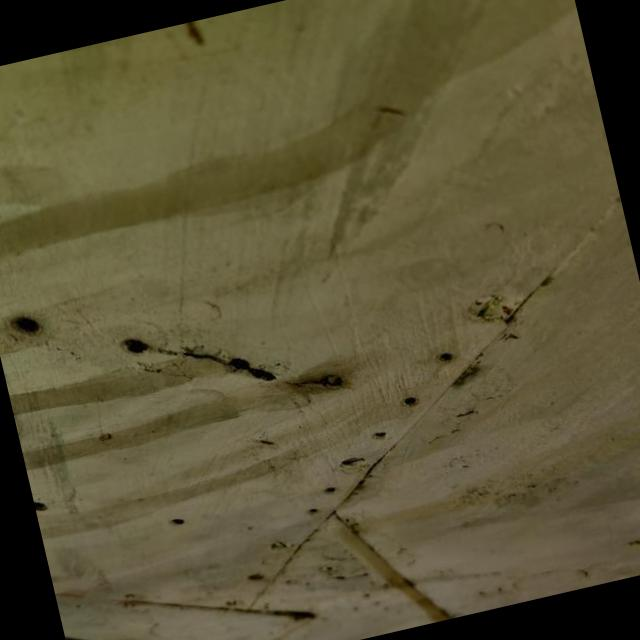Crack: (146, 346, 275, 381)
